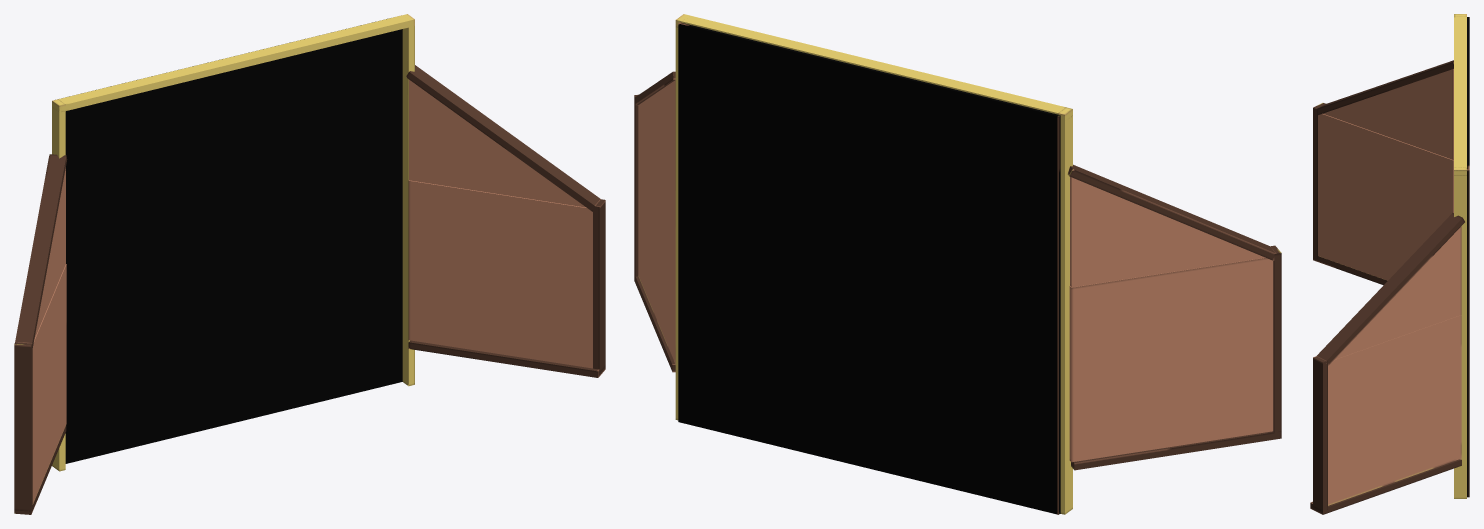
Rendered from Door.obj.
3 views of the same model, side by side, from view 1: azimuth 30°, elevation 25°; view 2: azimuth 150°, elevation 25°; view 3: azimuth 270°, elevation 25° (orthographic). The views are drawn at different scales.
Visible parts, largest first — view 1: cube; view 2: cube; view 3: cube.
Boxes of the visible parts, <box> form: cube: <box>14,14,605,514</box>; cube: <box>634,14,1281,514</box>; cube: <box>1310,14,1469,514</box>.
Size of the model in its own units: 9.32 by 5.5 by 2.42.
